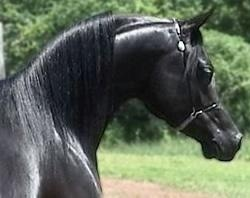horse: (1, 8, 245, 198)
